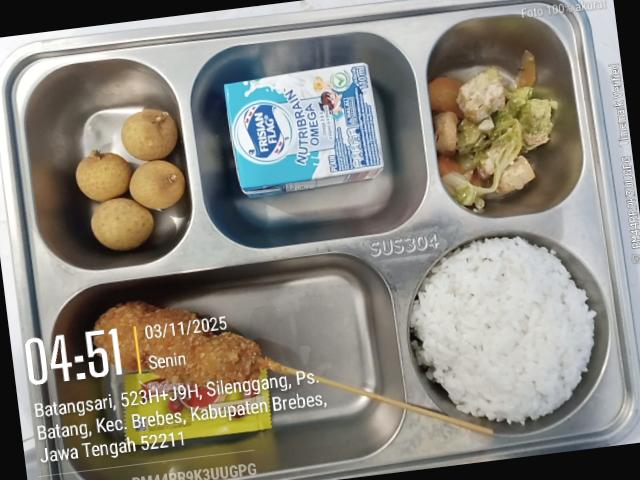ayam: (93, 301, 265, 385)
buah: (75, 109, 185, 250)
nasi: (410, 237, 595, 424)
sayur: (484, 112, 521, 193)
susu: (223, 62, 383, 197)
tahu: (456, 67, 504, 123)
